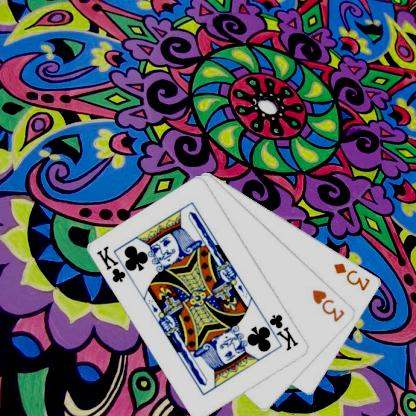3D: (331, 260, 372, 292)
3H: (310, 286, 347, 324)
KC: (94, 244, 135, 284), (260, 312, 300, 352)
